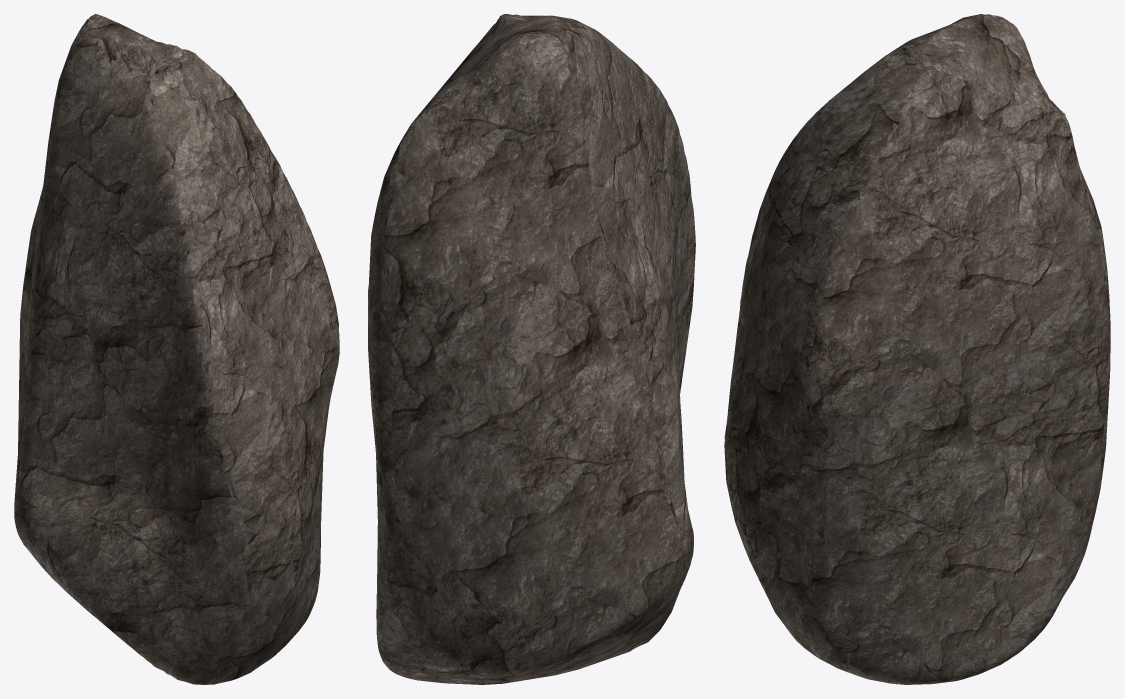
Rendered from cascajo_rock_5.glb.
3 renders of one model, left to right at view 1: azimuth 30°, elevation 25°; view 2: azimuth 150°, elevation 25°; view 3: azimuth 270°, elevation 25°, orthographic. The views are drawn at different scales.
Visible parts, largest first — view 1: rock_5; view 2: rock_5; view 3: rock_5.
Part boxes in pixels (left/top/right/bottom): rock_5: left=14, top=14, right=339, bottom=684; rock_5: left=368, top=14, right=695, bottom=684; rock_5: left=724, top=14, right=1110, bottom=684.
Size of the model in its own units: 0.4435 by 1 by 0.5701.
Materials: 1 (1 with a texture image).
